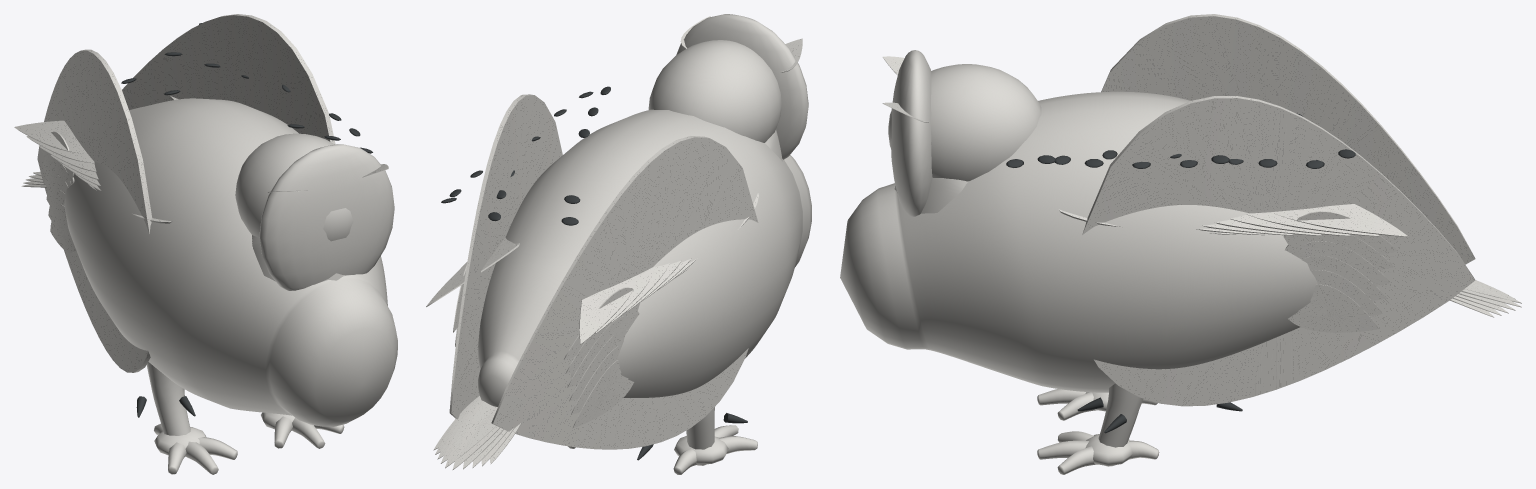
File: bird-owl.glb
3 views of the same model, side by side, from view 1: azimuth 30°, elevation 25°; view 2: azimuth 150°, elevation 25°; view 3: azimuth 270°, elevation 25° (orthographic). The views are drawn at different scales.
Parts seen in each view (by area): view 1: snowy-owl; view 2: snowy-owl; view 3: snowy-owl.
Boxes of the visible parts, bbox=[...] form: snowy-owl: bbox=[14, 14, 397, 474]; snowy-owl: bbox=[426, 14, 811, 474]; snowy-owl: bbox=[840, 14, 1521, 474].
Bounding box in the file's own units: 8840 × 14168 × 22966.
4 materials, 2 textured.
